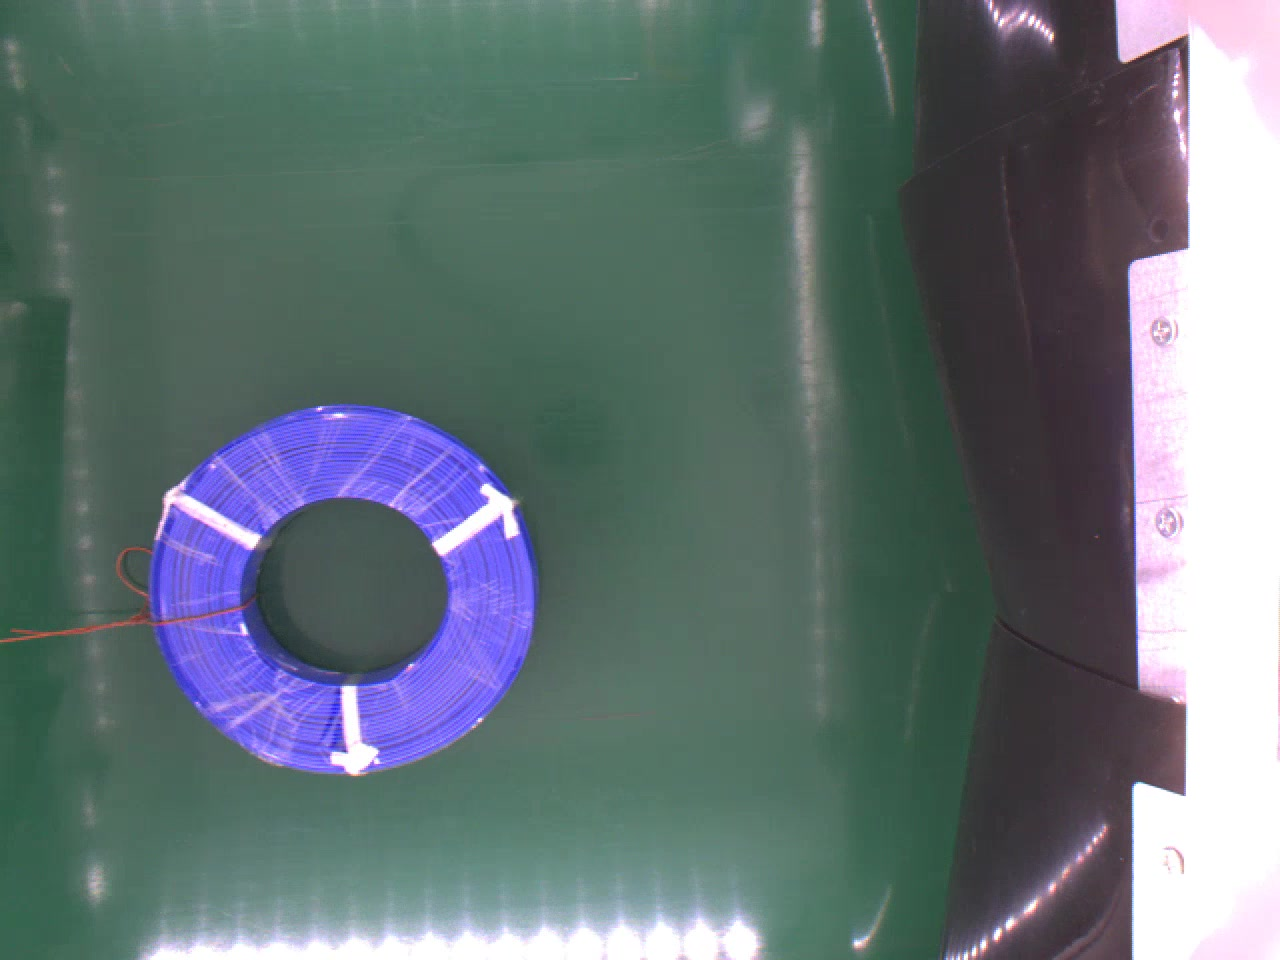blue: (145, 406, 538, 778)
